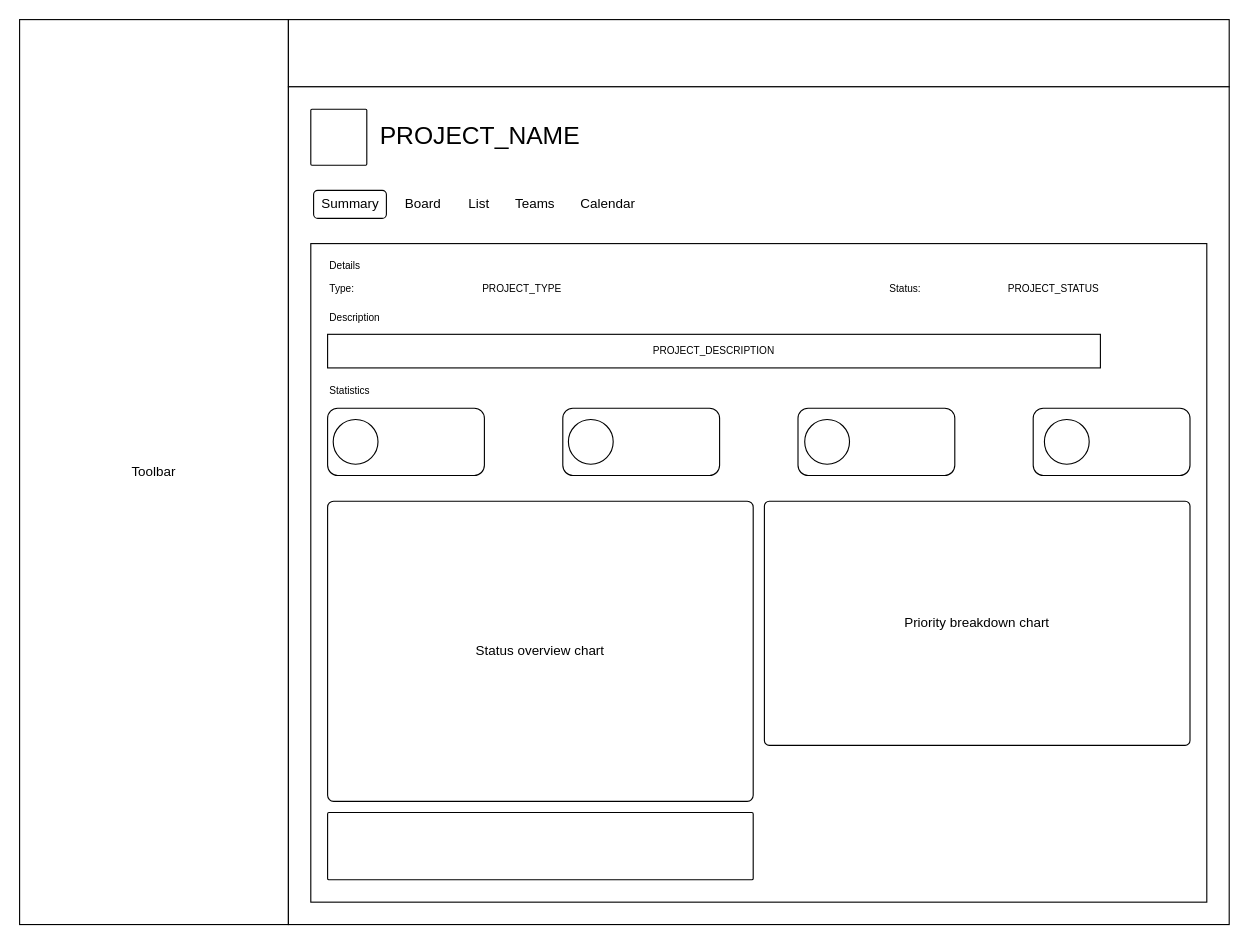
This 1249x944 diagram has some shape labels left out. The shapes that lost their labels are listed below. From the top down, each one's box as (x1, y1, x2, y2) in pixels, then its label:
(287, 18, 1229, 87): Navigation
(326, 811, 753, 880): Team workload chart
